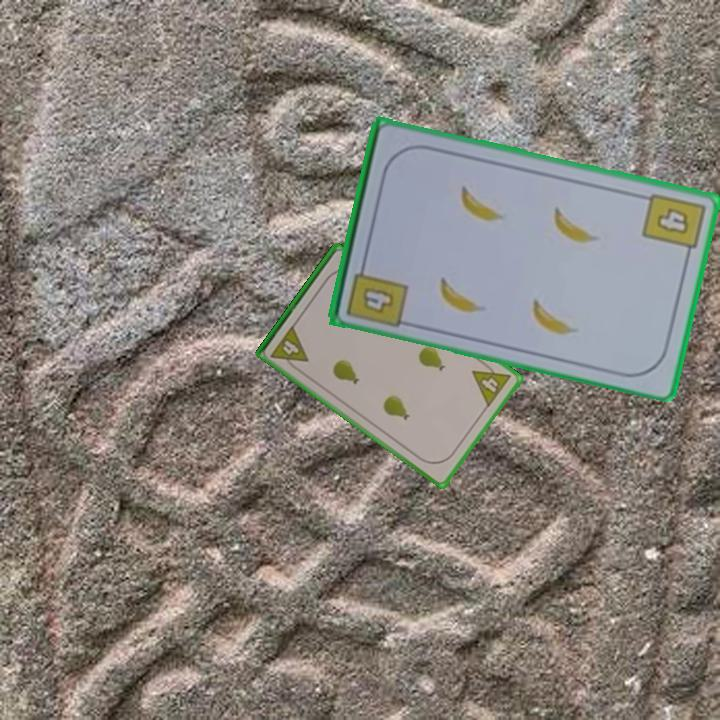4b: (343, 256, 411, 331), (639, 189, 708, 262)
4p: (468, 356, 514, 410), (267, 321, 311, 374)
